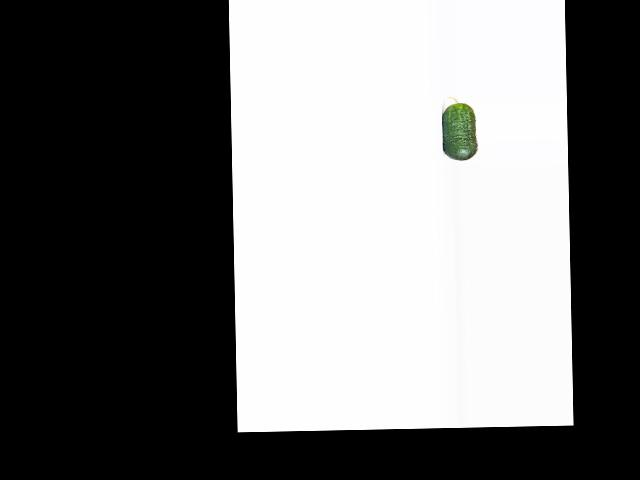cucumber: (441, 95, 478, 160)
